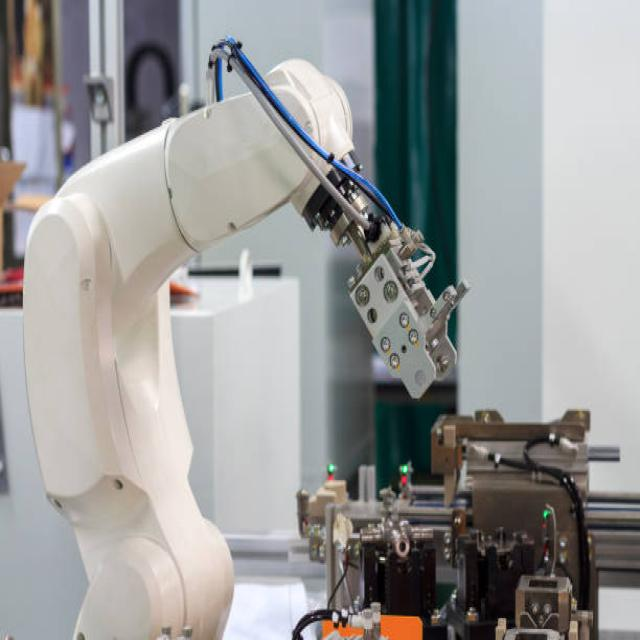Robotic-arm: (20, 34, 455, 640)
